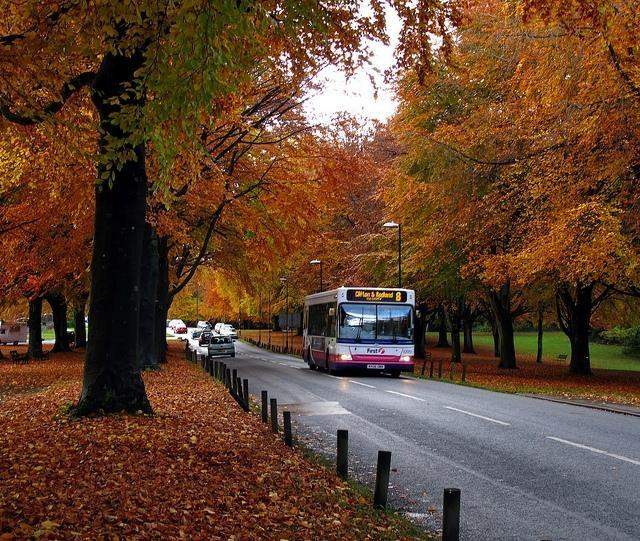bus: (302, 286, 414, 380)
car: (203, 337, 234, 358), (199, 330, 214, 347), (168, 318, 185, 330), (220, 324, 234, 336), (224, 328, 237, 338), (191, 329, 202, 340), (174, 324, 187, 333), (214, 323, 224, 334), (198, 322, 212, 329), (166, 320, 172, 327)
